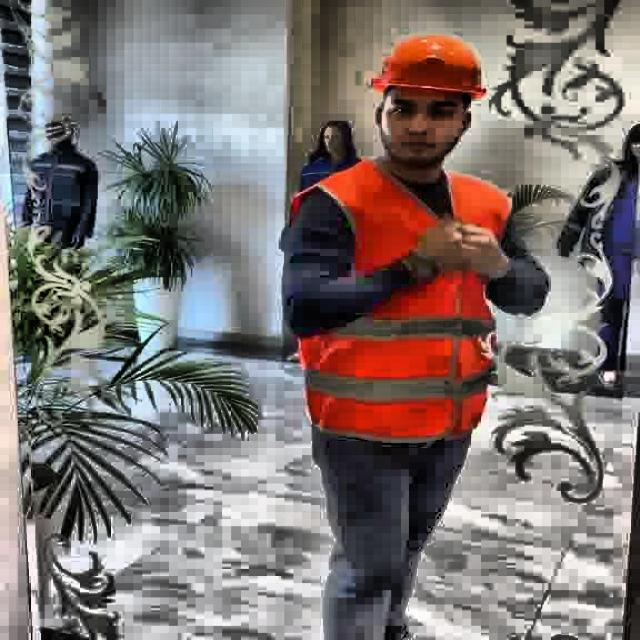safety_helmet: (370, 34, 490, 98)
safety_jacket: (288, 163, 518, 445)
